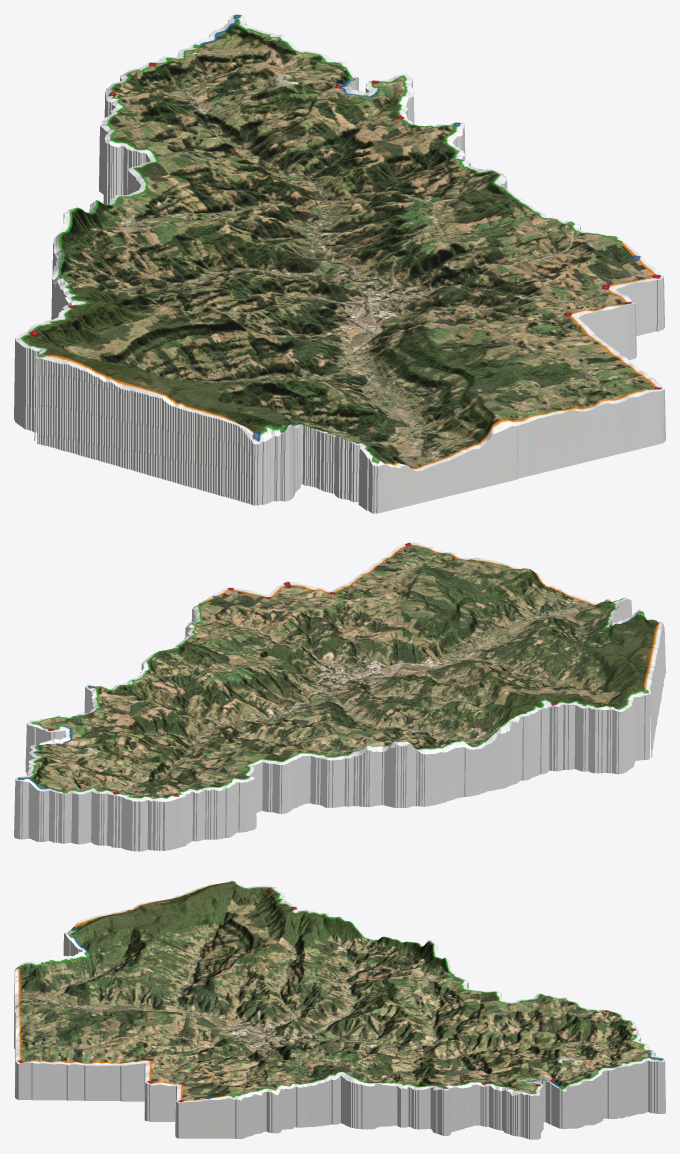
3 renders of one model, top to bottom at view 1: azimuth 30°, elevation 25°; view 2: azimuth 150°, elevation 25°; view 3: azimuth 270°, elevation 25°, orthographic. The views are drawn at different scales.
Bounding box in the file's own units: 1 × 0.1461 × 1.38.
Materials: 1 (1 with a texture image).
